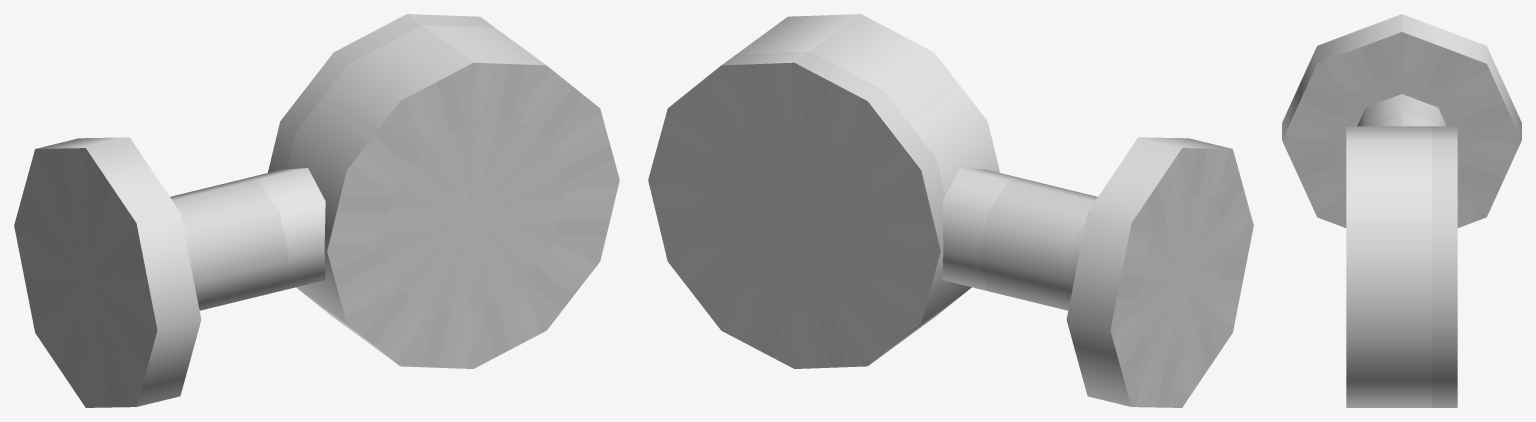
Rendered from trusssignalarm_stub_2.obj.
3 views of the same model, side by side, from view 1: azimuth 30°, elevation 25°; view 2: azimuth 150°, elevation 25°; view 3: azimuth 270°, elevation 25° (orthographic). The views are drawn at different scales.
Parts seen in each view (by area): view 1: trusssignalarm_stub_2; view 2: trusssignalarm_stub_2; view 3: trusssignalarm_stub_2.
Boxes of the visible parts, box(x1,y1,x2,y2) form: trusssignalarm_stub_2: box(14, 14, 619, 407); trusssignalarm_stub_2: box(648, 14, 1253, 407); trusssignalarm_stub_2: box(1282, 14, 1521, 407).
Size of the model in its own units: 0.7056 by 0.4125 by 0.35.
